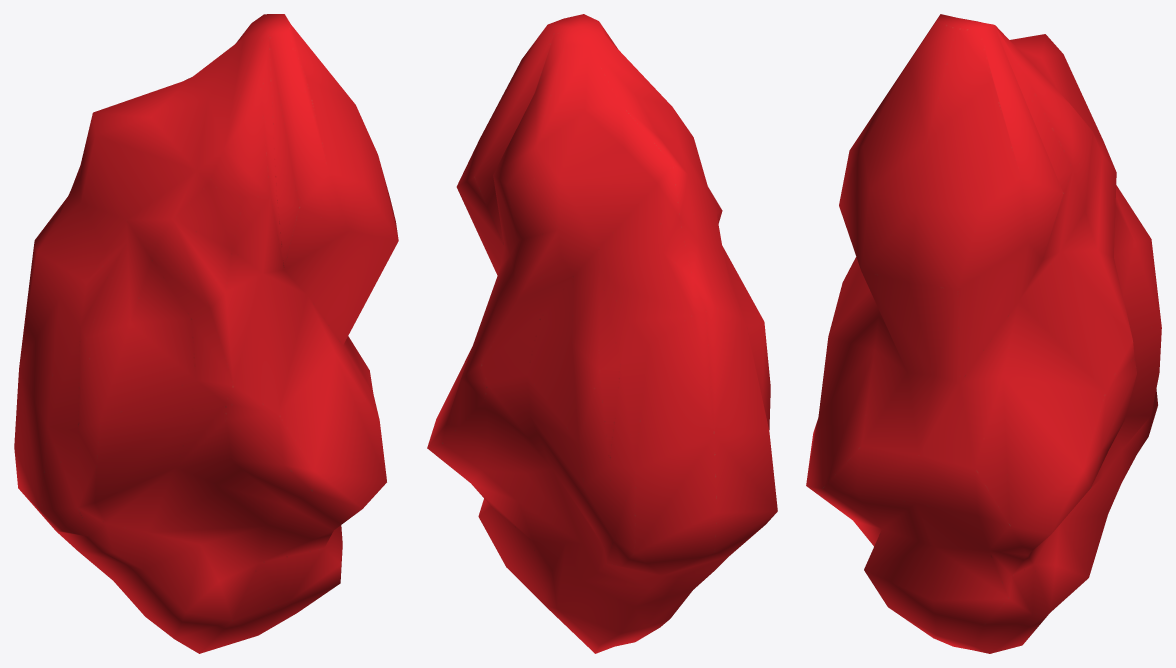
The model's file is roja.glb.
3 views of the same model, side by side, from view 1: azimuth 30°, elevation 25°; view 2: azimuth 150°, elevation 25°; view 3: azimuth 270°, elevation 25° (orthographic). The views are drawn at different scales.
Visible parts, largest first — view 1: node_id30; view 2: node_id30; view 3: node_id30.
Part boxes in pixels (left/top/right/bottom): node_id30: left=14, top=14, right=398, bottom=653; node_id30: left=427, top=14, right=777, bottom=653; node_id30: left=806, top=14, right=1161, bottom=653.
Size of the model in its own units: 0.1857 by 0.3209 by 0.1589.
1 material, 1 textured.
